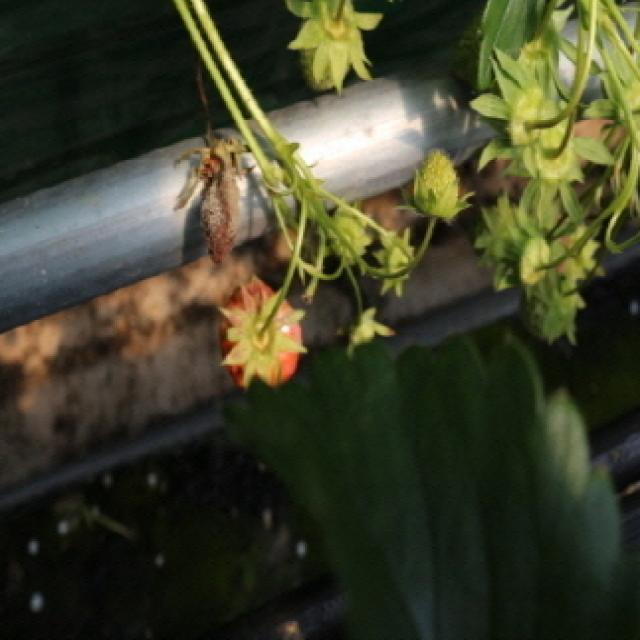Gray Mold: (191, 132, 256, 267)
